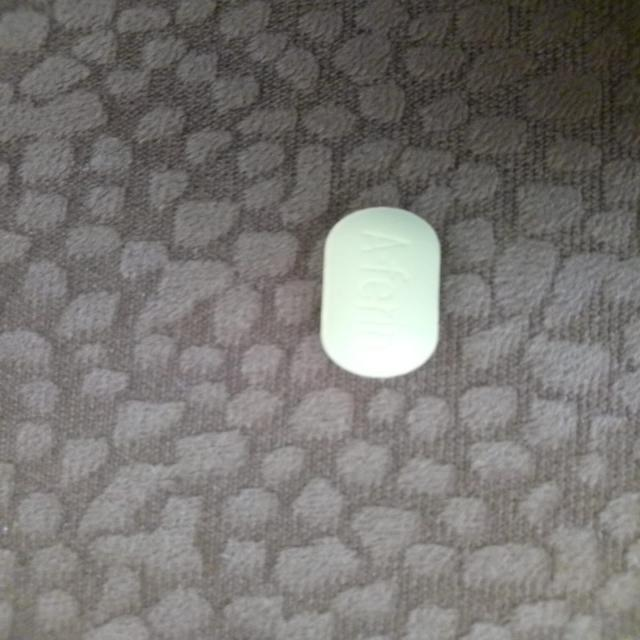pills: (301, 188, 467, 392)
